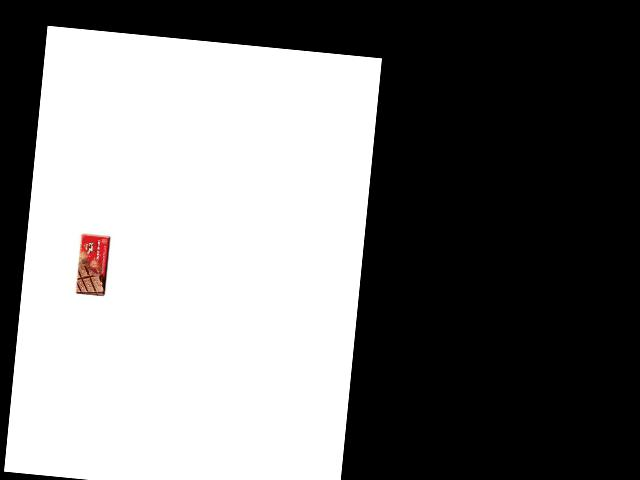chocolate: (74, 232, 111, 297)
